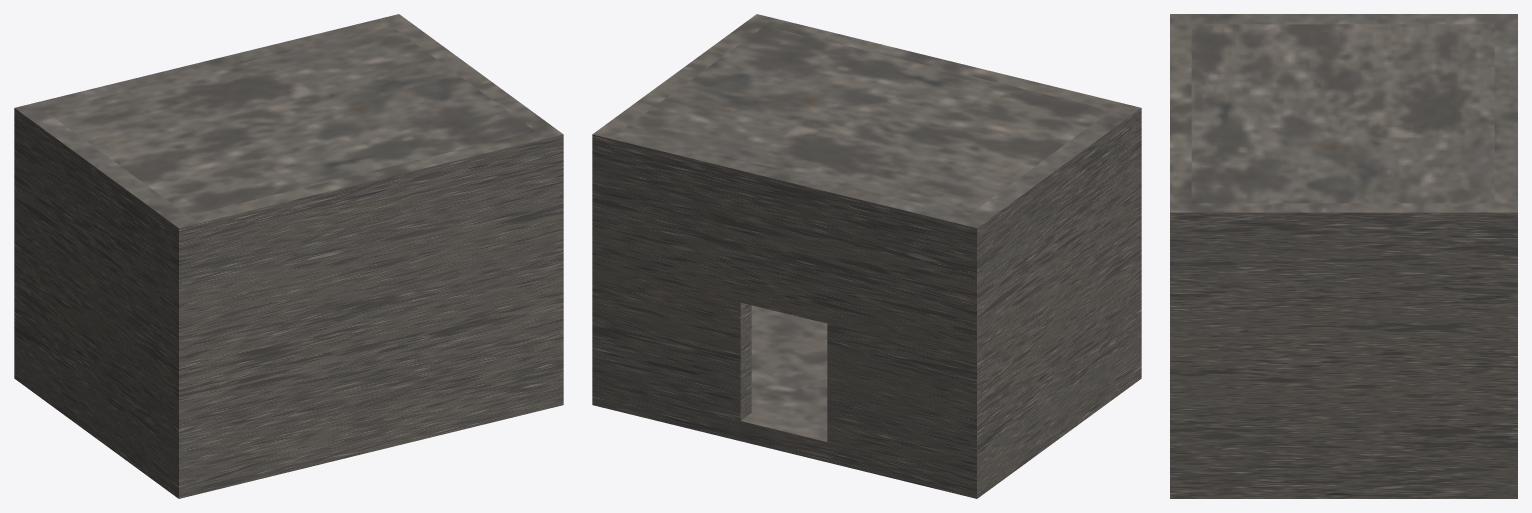
File: tokenHouse.dae
3 views of the same model, side by side, from view 1: azimuth 30°, elevation 25°; view 2: azimuth 150°, elevation 25°; view 3: azimuth 270°, elevation 25° (orthographic). The views are drawn at different scales.
Parts seen in each view (by area): view 1: Cube; view 2: Cube; view 3: Cube.
Boxes of the visible parts, x1,y1,x2,y2 form: Cube: (14, 14, 563, 498); Cube: (592, 14, 1141, 498); Cube: (1170, 14, 1517, 498).
Bounding box in the file's own units: 13.81 × 10.23 × 9.29.
